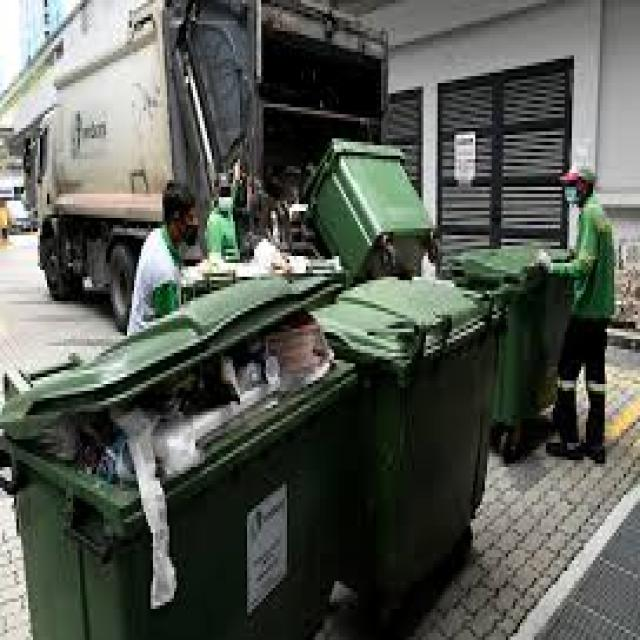bin_empty: (316, 285, 494, 596), (444, 242, 576, 450), (298, 135, 436, 284)
bin_full: (0, 280, 369, 636)
normal_waste: (118, 391, 218, 481), (98, 426, 134, 480), (252, 236, 288, 274)
